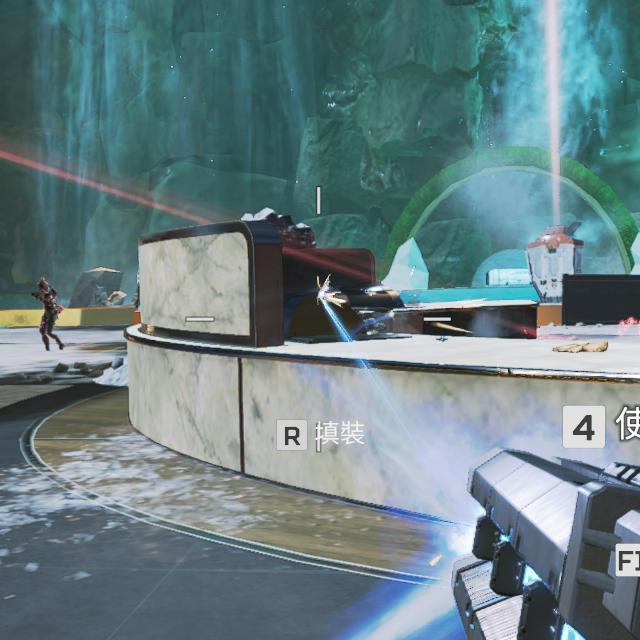avatar: (30, 277, 66, 352)
